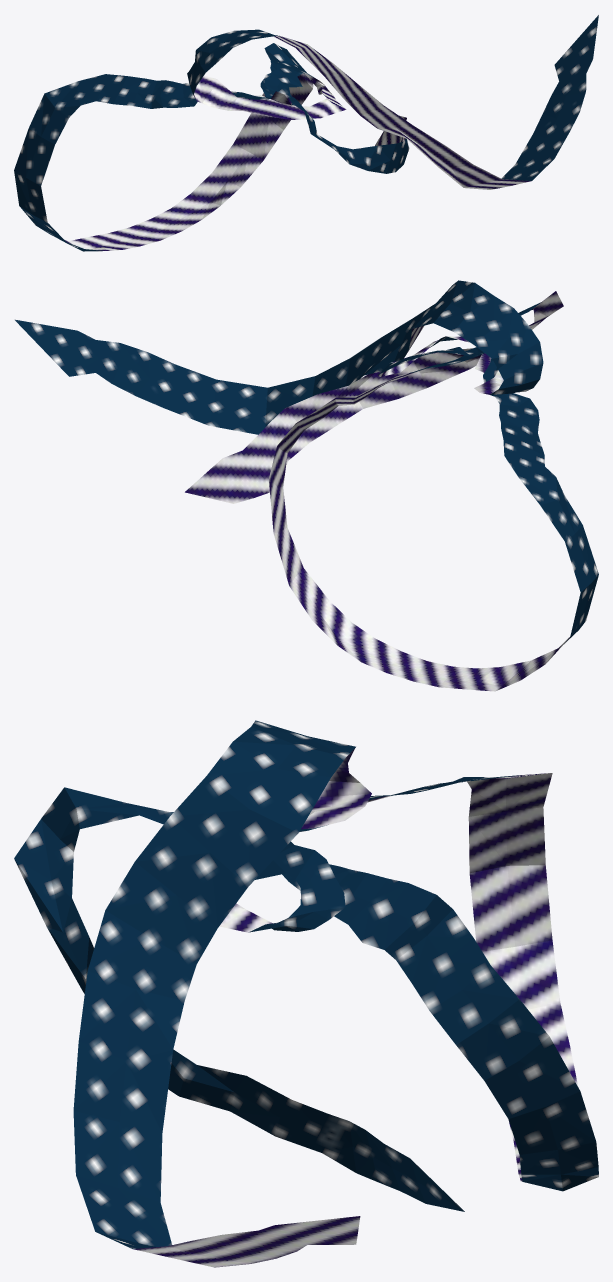
The picture shows the model from 3 angles, top to bottom: view 1: azimuth 30°, elevation 25°; view 2: azimuth 150°, elevation 25°; view 3: azimuth 270°, elevation 25°; orthographic projection. The views are drawn at different scales.
Parts seen in each view (by area): view 1: Mesh2; view 2: Mesh2; view 3: Mesh2.
Boxes of the visible parts, x1,y1,x2,y2 form: Mesh2: [14, 15, 598, 251]; Mesh2: [14, 280, 598, 691]; Mesh2: [14, 720, 598, 1267].
Bounding box in the file's own units: 1.49 × 0.6824 × 0.7936.
2 materials, 2 textured.
